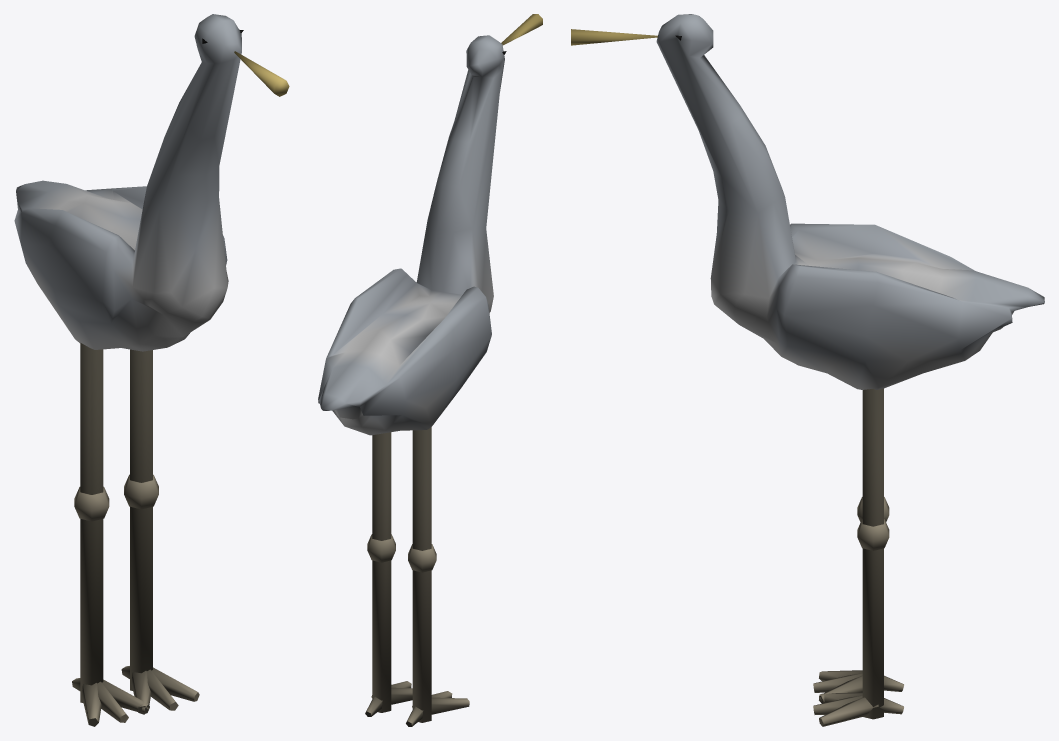
The model's file is reiher.glb.
3 renders of one model, left to right at view 1: azimuth 30°, elevation 25°; view 2: azimuth 150°, elevation 25°; view 3: azimuth 270°, elevation 25°, orthographic. The views are drawn at different scales.
Parts seen in each view (by area): view 1: lack; view 2: lack; view 3: lack.
Boxes of the visible parts, <box> form: lack: <box>14,14,289,726</box>; lack: <box>318,14,542,726</box>; lack: <box>571,14,1044,726</box>.
Size of the model in its own units: 0.1728 by 0.9363 by 0.5841.
